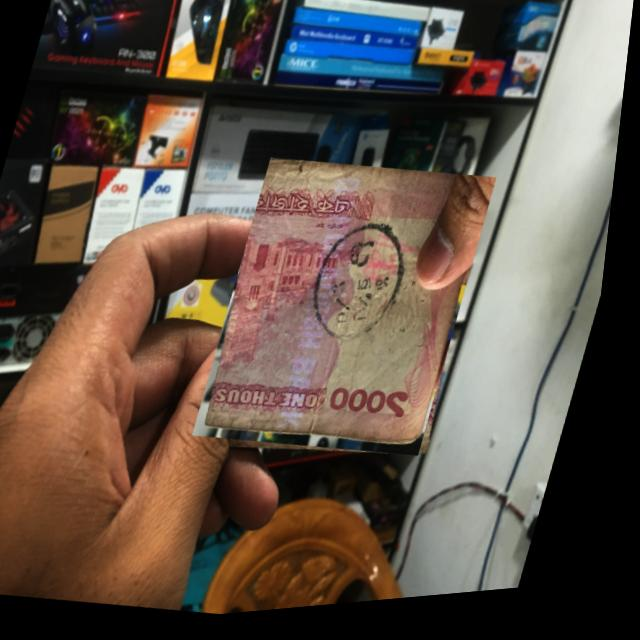Taka: (199, 147, 504, 480)
